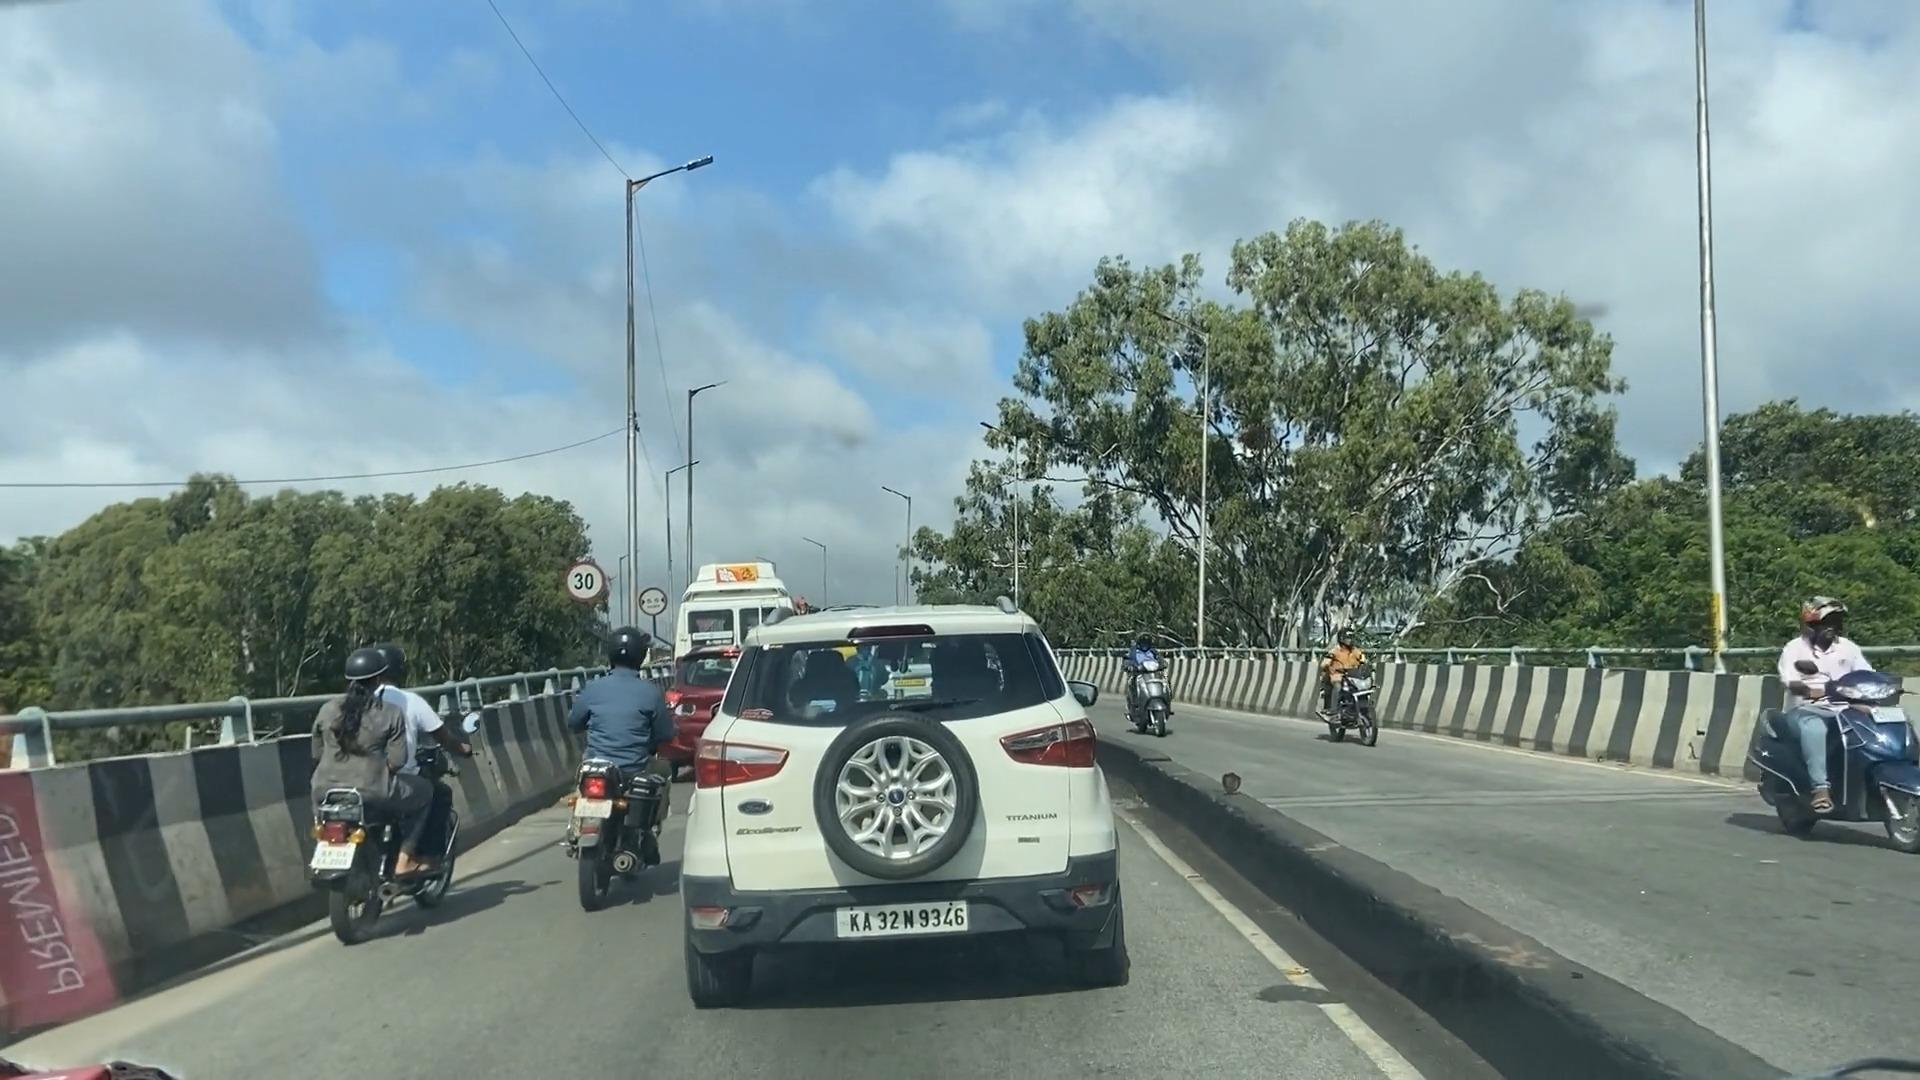LMV: (684, 611, 1127, 981), (294, 611, 456, 959), (531, 609, 645, 927)
